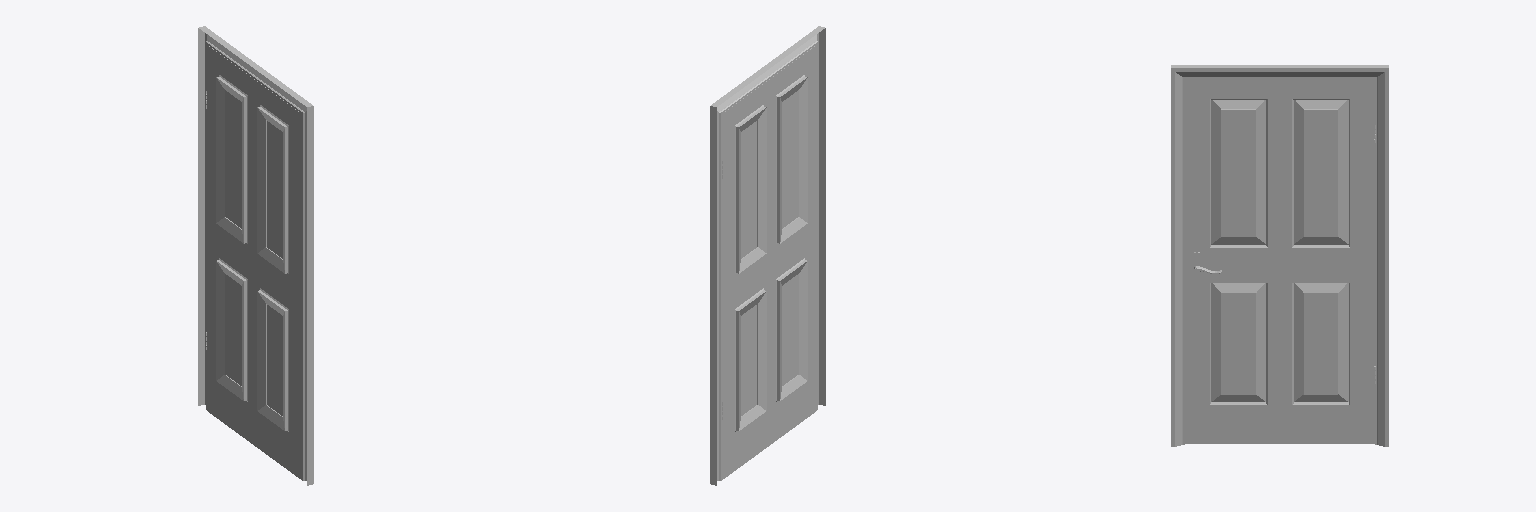
The model's file is door.obj.
3 renders of one model, left to right at view 1: azimuth 30°, elevation 25°; view 2: azimuth 150°, elevation 25°; view 3: azimuth 270°, elevation 25°, orthographic.
Parts seen in each view (by area): view 1: door_Plane; view 2: door_Plane; view 3: door_Plane.
Part boxes in pixels (x1,y1,x2,y2): door_Plane: (198,26,313,485); door_Plane: (710,26,825,485); door_Plane: (1171,65,1388,446).
Bounding box in the file's own units: 0.1199 × 3.99 × 2.08.